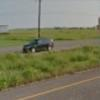cars: (22, 37, 54, 54)
